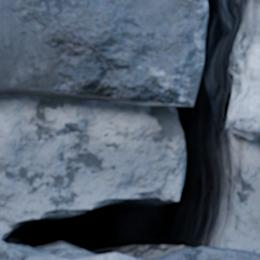brick: (0, 240, 135, 259), (157, 248, 259, 259)
broken_brick: (0, 0, 205, 106), (227, 0, 259, 140)
crack: (2, 0, 257, 259)
